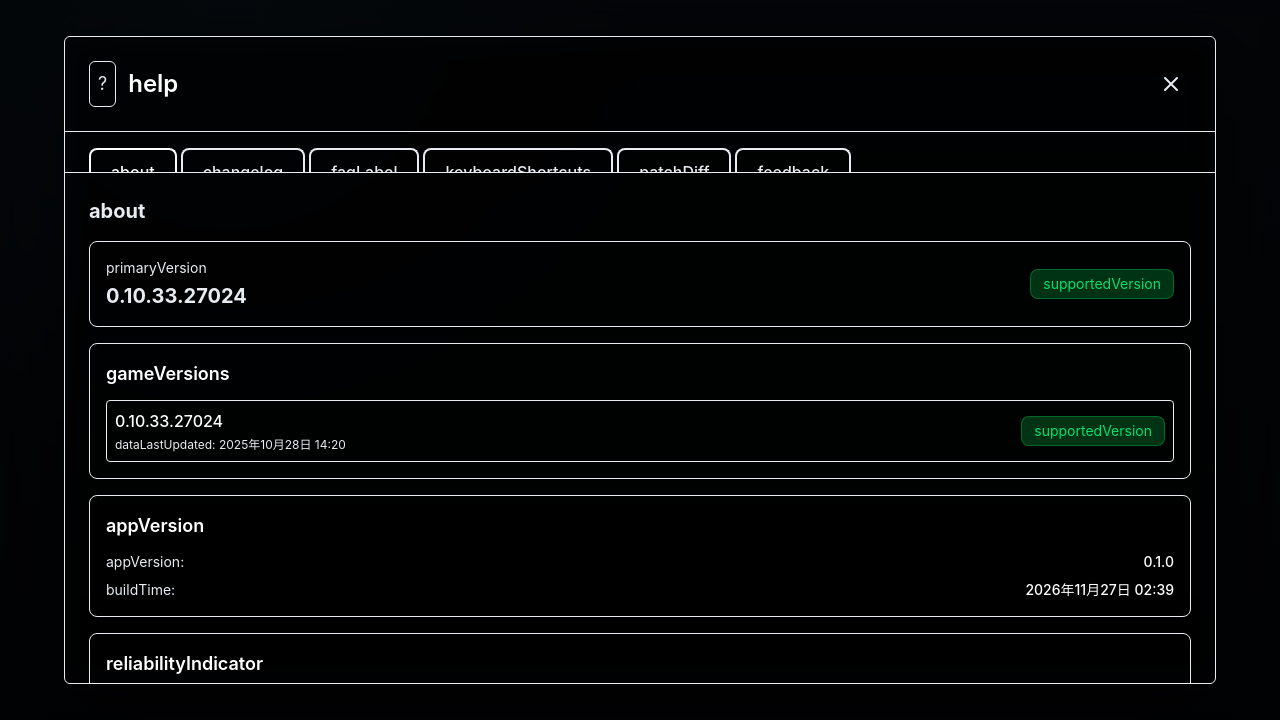
Test case: HelpModal › FAQタブを表示できる
Expected: the heading "help" is shown, [128,68,178,100]
FAQタブをクリック
Click the tab "faqLabel": (364, 160) [309,148,419,172]
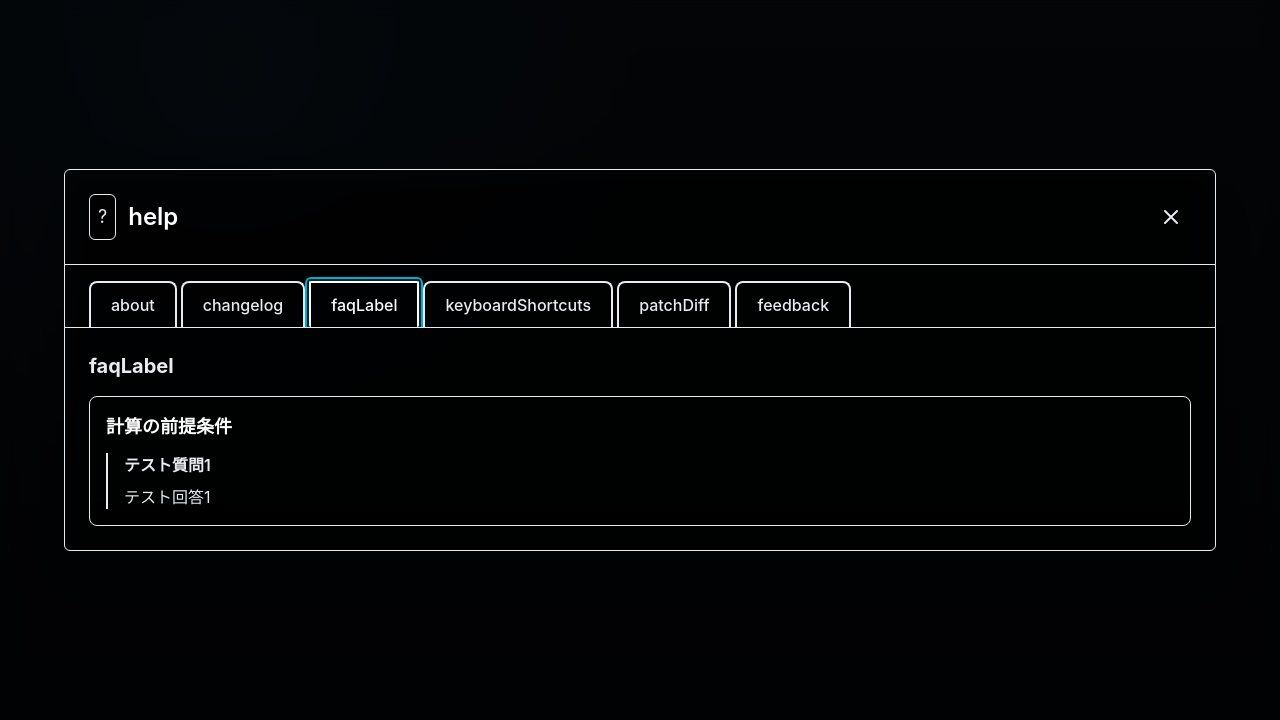
Expected: the heading "計算の前提条件" is shown, [106,416,232,437]
